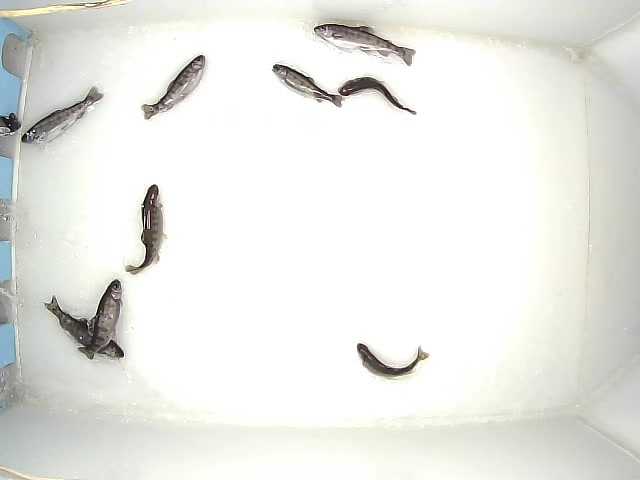fish: (44, 295, 124, 360), (21, 86, 104, 145), (141, 54, 206, 121), (314, 24, 416, 66), (125, 184, 168, 275), (77, 279, 122, 360), (272, 64, 345, 108), (338, 77, 417, 115), (357, 343, 430, 377)
